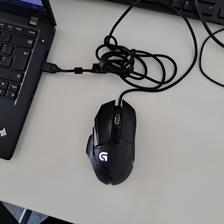mouse: (84, 98, 138, 185)
